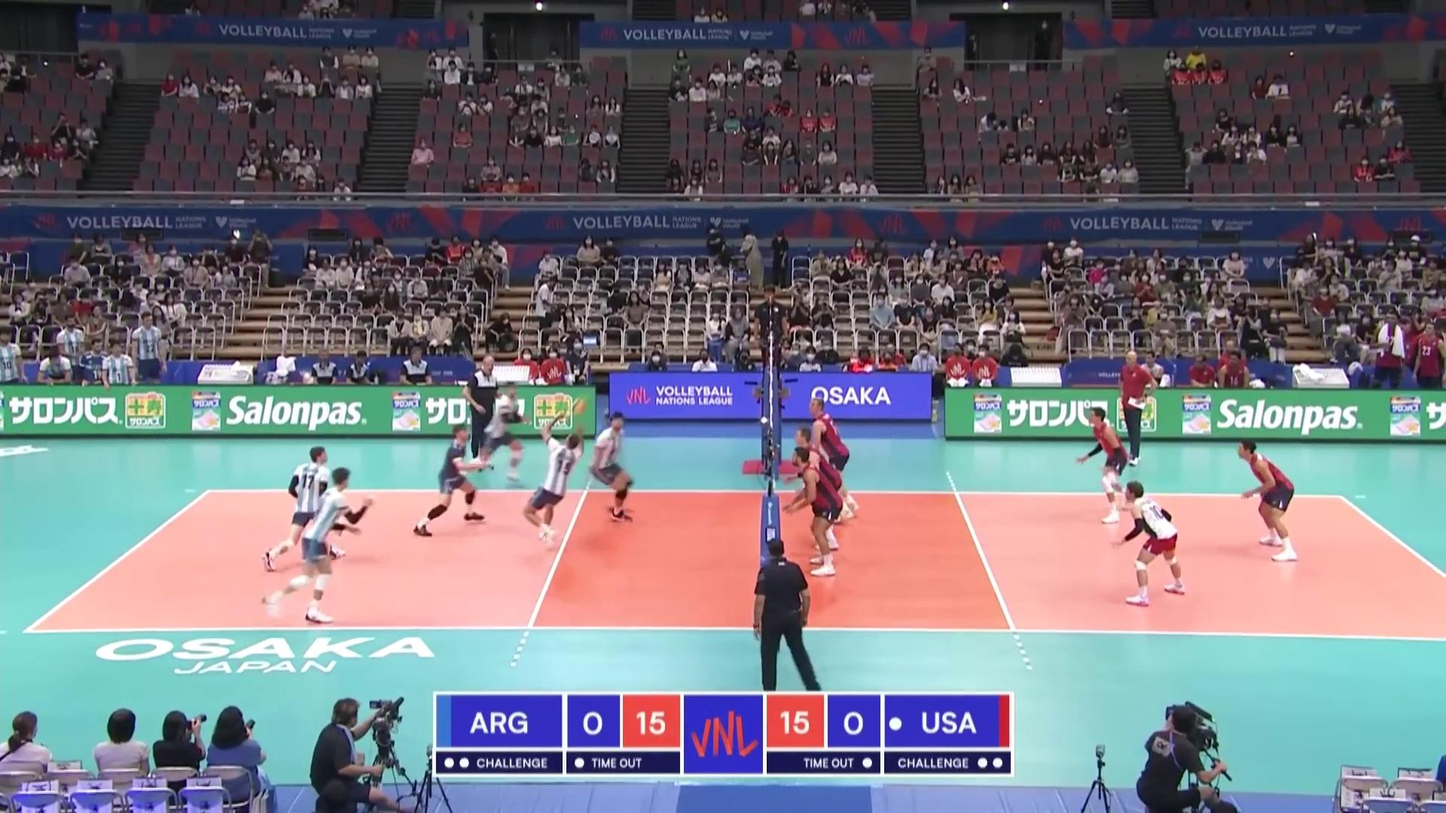player: (260, 468, 371, 622), (265, 446, 346, 572), (1114, 483, 1188, 603), (521, 413, 586, 549), (415, 424, 488, 538), (1235, 440, 1297, 561), (790, 447, 844, 578), (802, 399, 859, 521), (1080, 404, 1137, 525), (796, 431, 843, 552), (473, 383, 527, 487), (590, 413, 635, 525)
refree: (754, 541, 823, 693), (752, 290, 787, 395)
